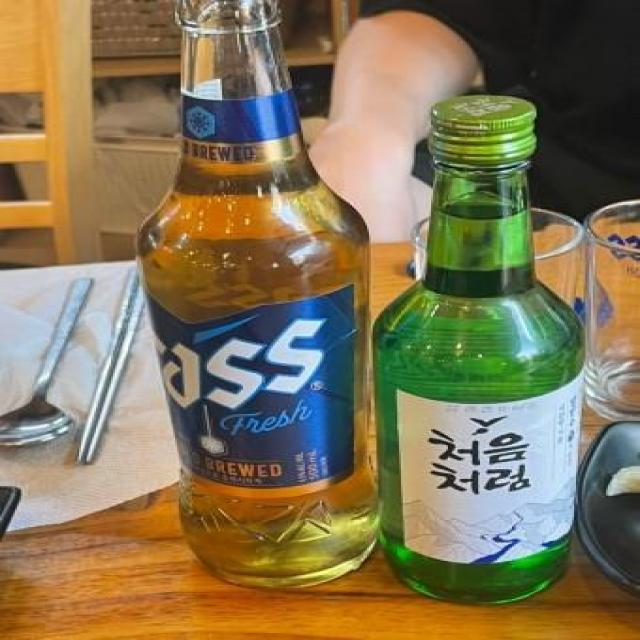beer-bottle: (120, 0, 391, 586)
soju-bottle: (374, 92, 588, 614)
